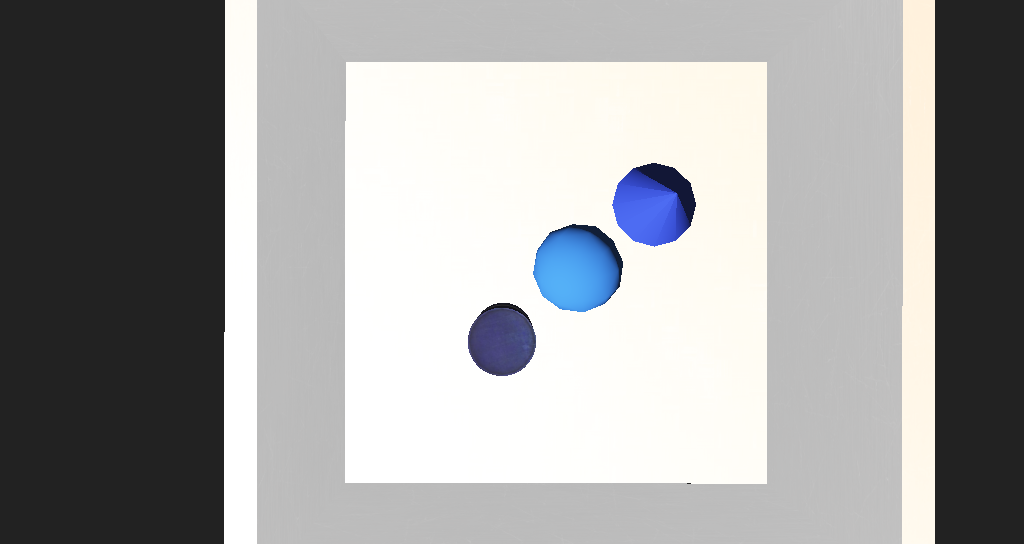cone: (438, 282, 492, 320)
cylinder: (546, 212, 613, 255)
sphere: (485, 246, 552, 289)
